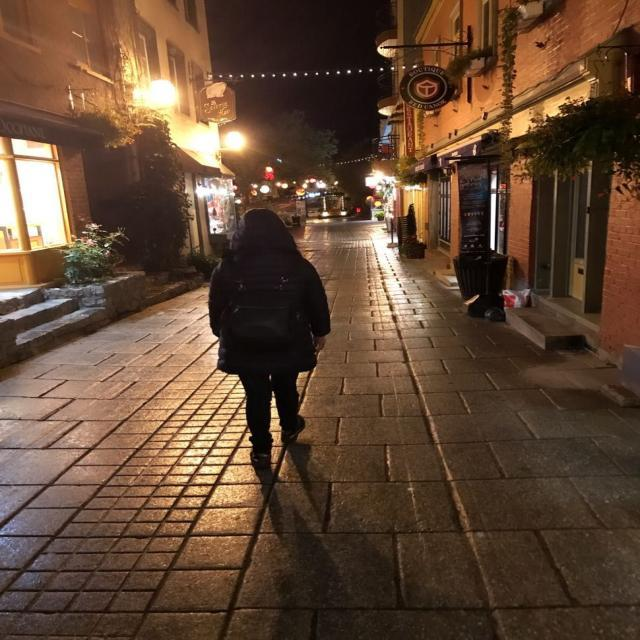person: (186, 199, 356, 474)
